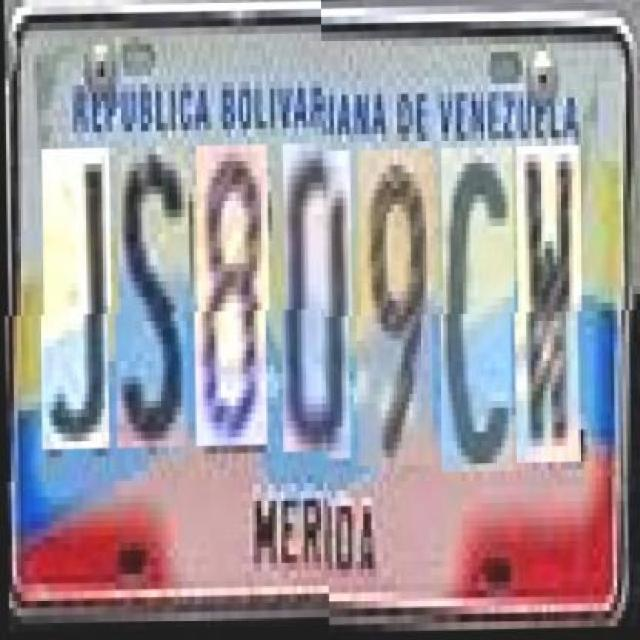0: (282, 152, 353, 460)
8: (196, 153, 270, 455)
9: (356, 150, 436, 468)
c: (440, 149, 515, 474)
j: (40, 155, 111, 457)
s: (117, 155, 191, 456)
w: (515, 148, 582, 464)
